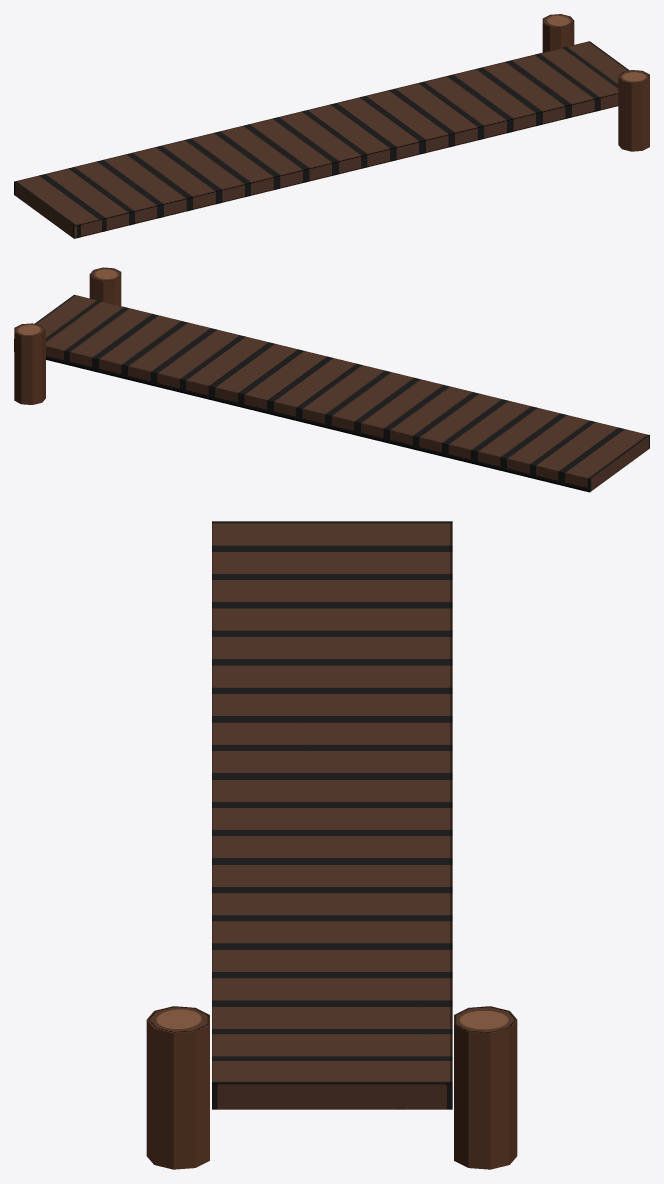
Rendered from dock.fbx.
3 renders of one model, top to bottom at view 1: azimuth 30°, elevation 25°; view 2: azimuth 150°, elevation 25°; view 3: azimuth 270°, elevation 25°, orthographic. The views are drawn at different scales.
Parts seen in each view (by area): view 1: Cube.026; view 2: Cube.026; view 3: Cube.026.
Boxes of the visible parts, x1,y1,x2,y2 form: Cube.026: [14, 14, 649, 238]; Cube.026: [14, 267, 649, 492]; Cube.026: [146, 521, 517, 1169].
Size of the model in its own units: 1104 by 125 by 308.
1 material, 1 textured.
